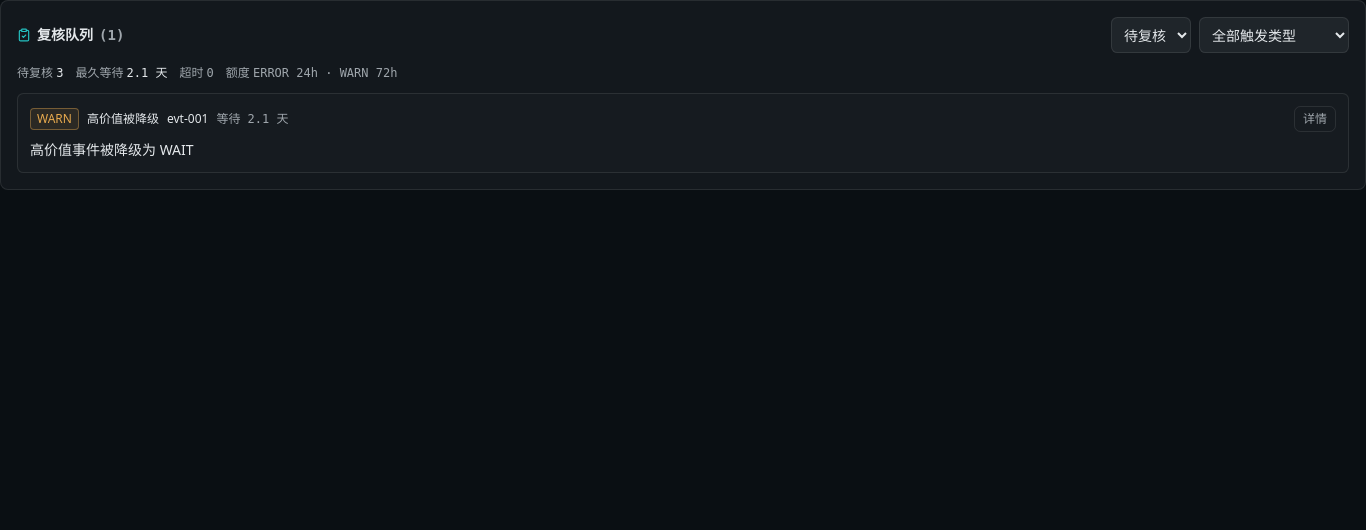
ReviewQueueBoard › surfaces an action failure without clearing the item
Expected: the text "高价值事件被降级为 WAIT" is shown, [30,140,194,159]
Click the button "详情".
click(1315, 119)  # box [1294,106,1336,132]
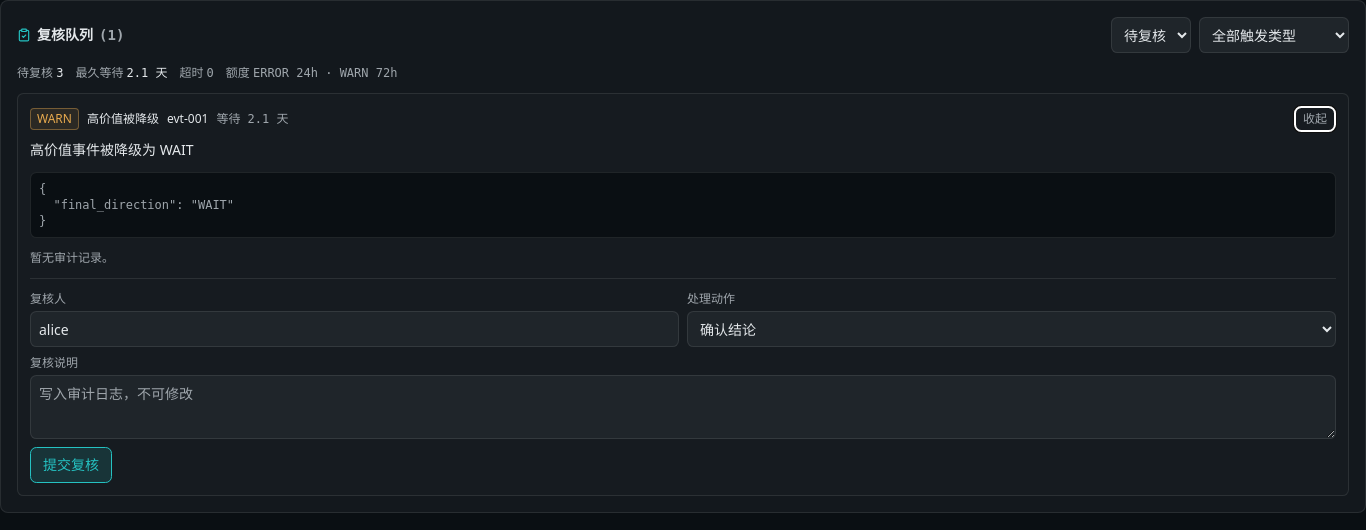
Click the button "提交复核".
click(71, 465)  # box [30,447,112,483]
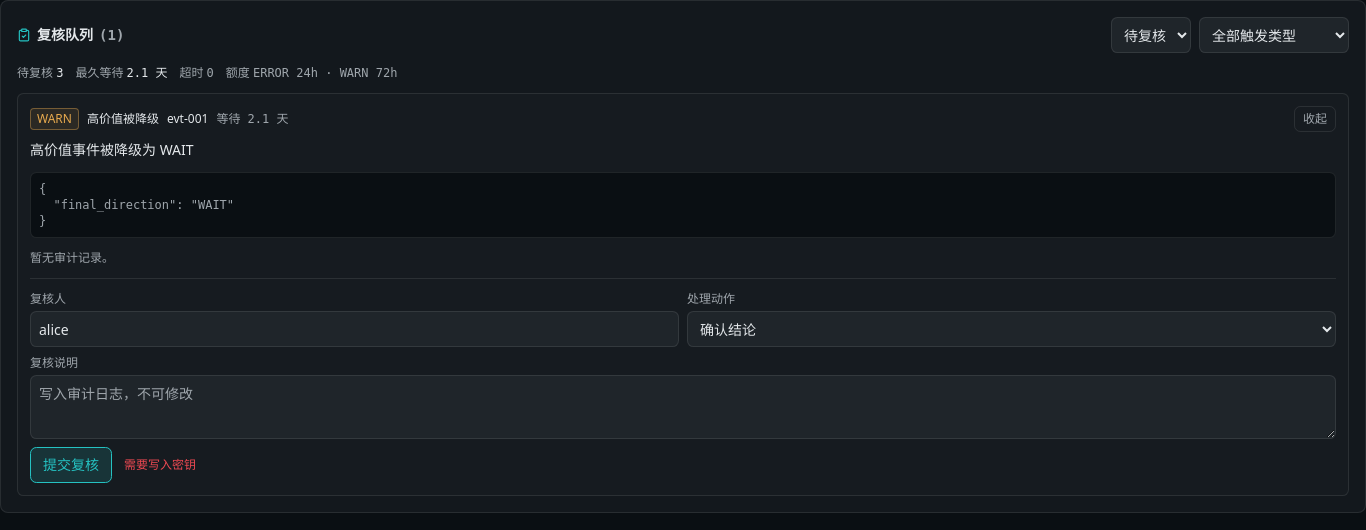
Expected: the text "高价值事件被降级为 WAIT" is shown, [30,140,194,159]
Now the text "需要写入密钥" is shown, box [124,457,196,473]
